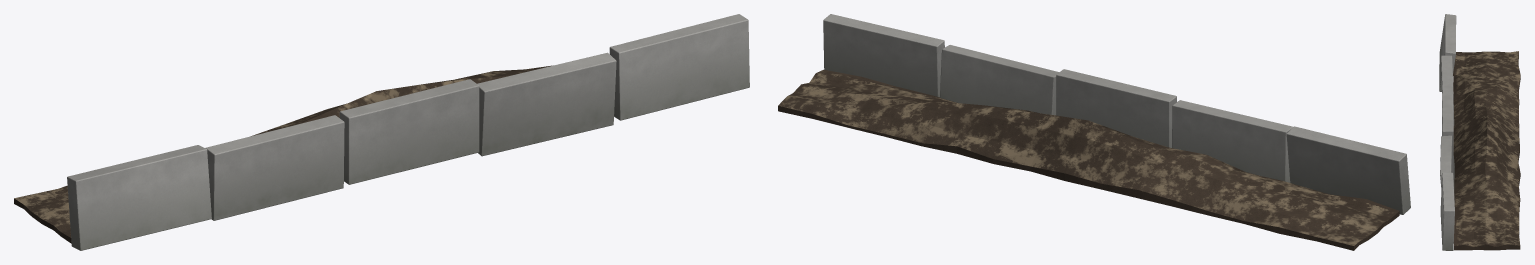
The model's file is edging_run.glb.
3 renders of one model, left to right at view 1: azimuth 30°, elevation 25°; view 2: azimuth 150°, elevation 25°; view 3: azimuth 270°, elevation 25°, orthographic. The views are drawn at different scales.
Parts seen in each view (by area): view 1: edging_run_WearBedConcreteEdg, edging_run_WearBedSoilEdg; view 2: edging_run_WearBedSoilEdg, edging_run_WearBedConcreteEdg; view 3: edging_run_WearBedSoilEdg, edging_run_WearBedConcreteEdg.
Part boxes in pixels (x1,y1,x2,y2): edging_run_WearBedConcreteEdg: (67,14,749,250); edging_run_WearBedSoilEdg: (14,65,551,243); edging_run_WearBedSoilEdg: (778,69,1399,250); edging_run_WearBedConcreteEdg: (823,14,1410,214); edging_run_WearBedSoilEdg: (1453,51,1520,250); edging_run_WearBedConcreteEdg: (1439,14,1456,250).
Bounding box in the file's own units: 2.3 × 0.242 × 0.4023.
Materials: 2 (2 with a texture image).
